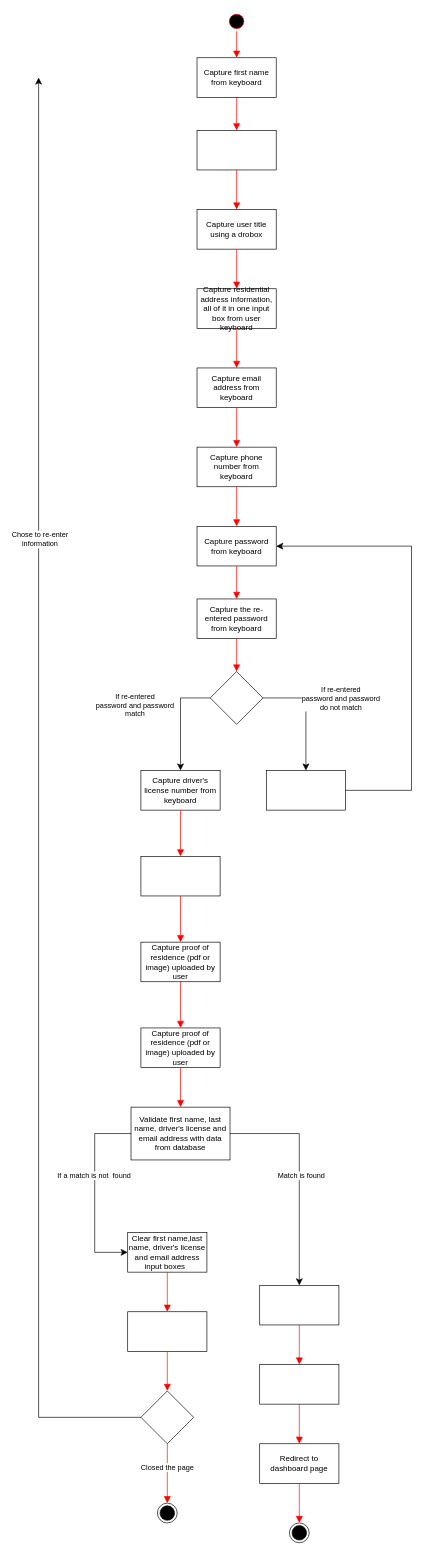
Image size: 430x1554. Some labels were removed from this diagram. The box of each missing label's shape, as (x1, y1, x2, y2) in pixels:
Capture driver's license document (pdf or image) uploaded by user: (140, 856, 220, 896)
Capture last name from keyboard: (196, 130, 276, 170)
Clear the input boxes for password and re-entered password: (266, 770, 346, 810)
Send confirmation via email address: (259, 1364, 339, 1404)
User confirms account creation by presses "Create account": (259, 1285, 339, 1325)
User either goes back and re-enters information or closes page: (127, 1311, 207, 1351)
